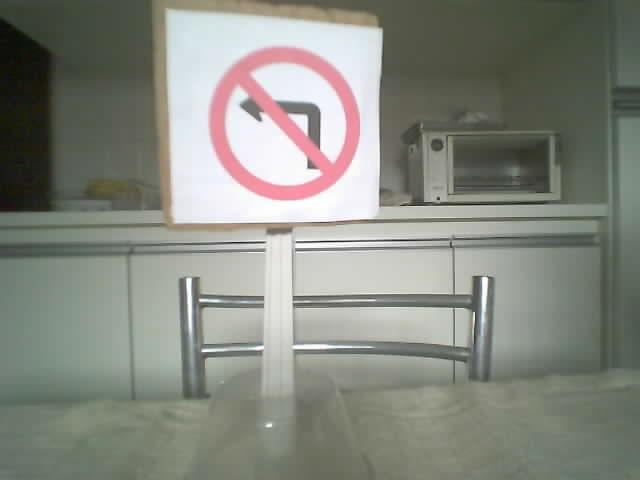R-4a_proibido-esquerda: (209, 45, 358, 200)
